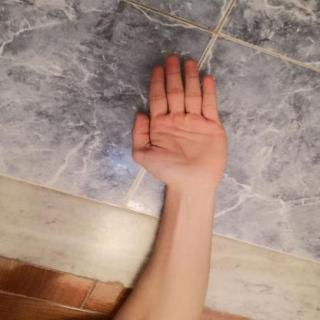SEEN: (122, 48, 233, 190)
